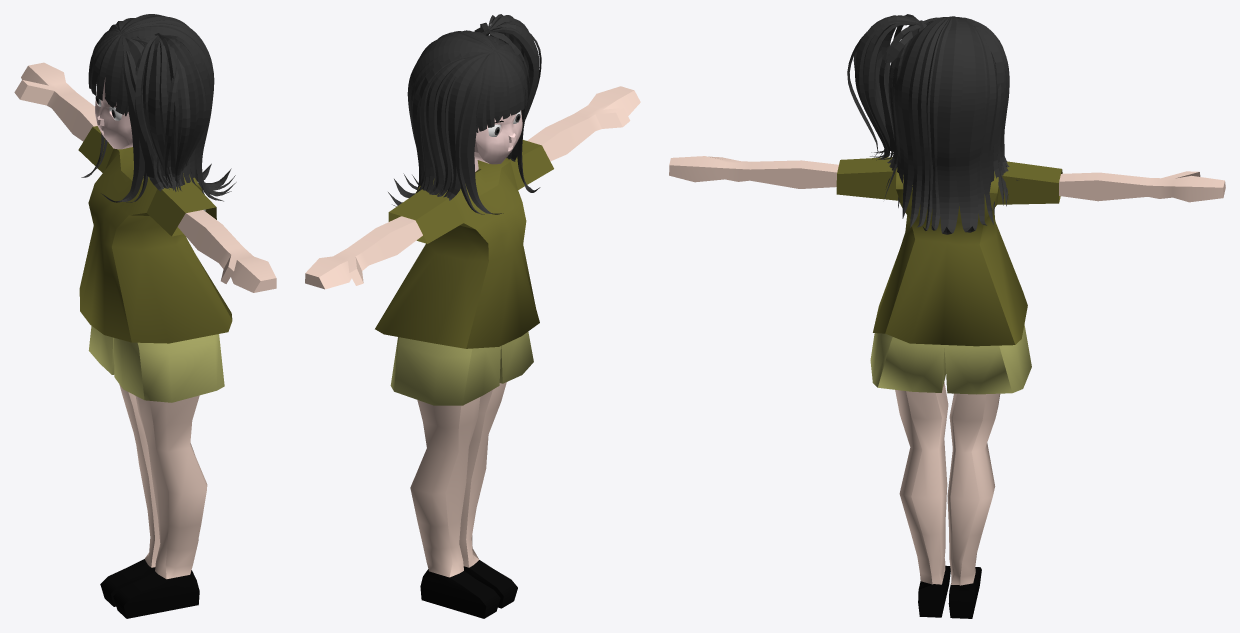
File: girl.glb
3 renders of one model, left to right at view 1: azimuth 30°, elevation 25°; view 2: azimuth 150°, elevation 25°; view 3: azimuth 270°, elevation 25°, orthographic. The views are drawn at different scales.
Parts seen in each view (by area): view 1: girl.002; view 2: girl.002; view 3: girl.002.
Boxes of the visible parts, left/top/right/bottom form: girl.002: left=14, top=14, right=276, bottom=618; girl.002: left=305, top=14, right=640, bottom=618; girl.002: left=669, top=14, right=1225, bottom=618.
Bounding box in the file's own units: 0.928 × 3.66 × 3.18.
